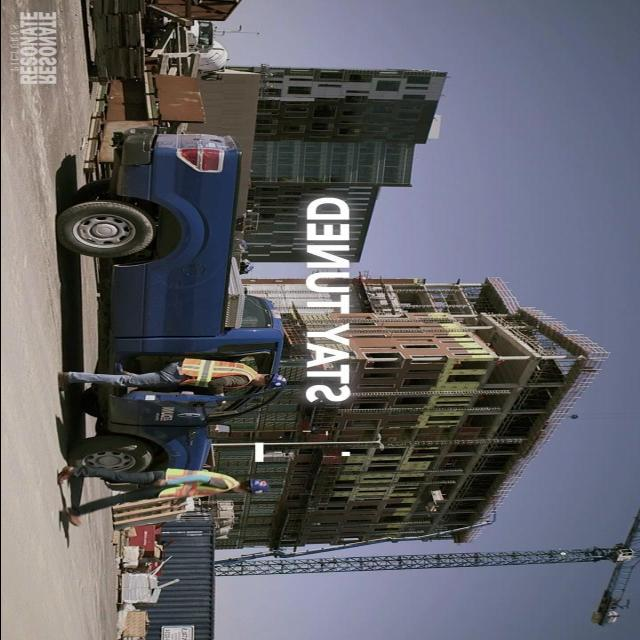helmet: (240, 474, 278, 501), (257, 371, 289, 395)
jacket: (167, 353, 257, 407), (154, 464, 241, 508)
